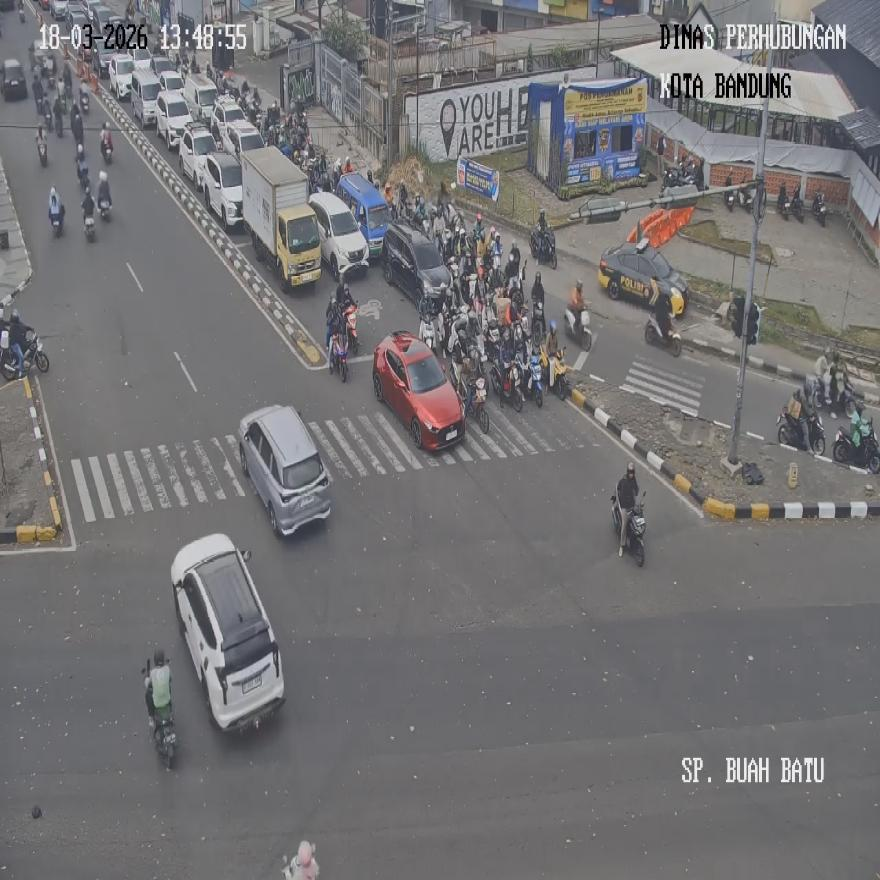Motor: (170, 532, 284, 732), (239, 405, 332, 538), (372, 330, 464, 451), (383, 222, 451, 310), (308, 191, 369, 281)
Truk: (142, 656, 176, 770), (832, 414, 880, 472), (611, 489, 645, 566), (777, 407, 825, 456), (3, 332, 49, 379), (645, 308, 681, 357), (462, 374, 488, 434), (564, 303, 592, 351), (498, 358, 523, 411), (548, 347, 570, 400), (530, 226, 557, 268), (525, 351, 544, 407), (330, 332, 348, 382), (47, 187, 64, 236), (96, 168, 112, 216), (344, 305, 358, 354), (740, 180, 758, 215), (82, 194, 95, 240), (789, 187, 806, 222), (76, 146, 89, 190), (724, 171, 737, 213), (812, 188, 826, 226), (100, 132, 114, 164), (37, 125, 48, 165), (79, 83, 89, 114)
